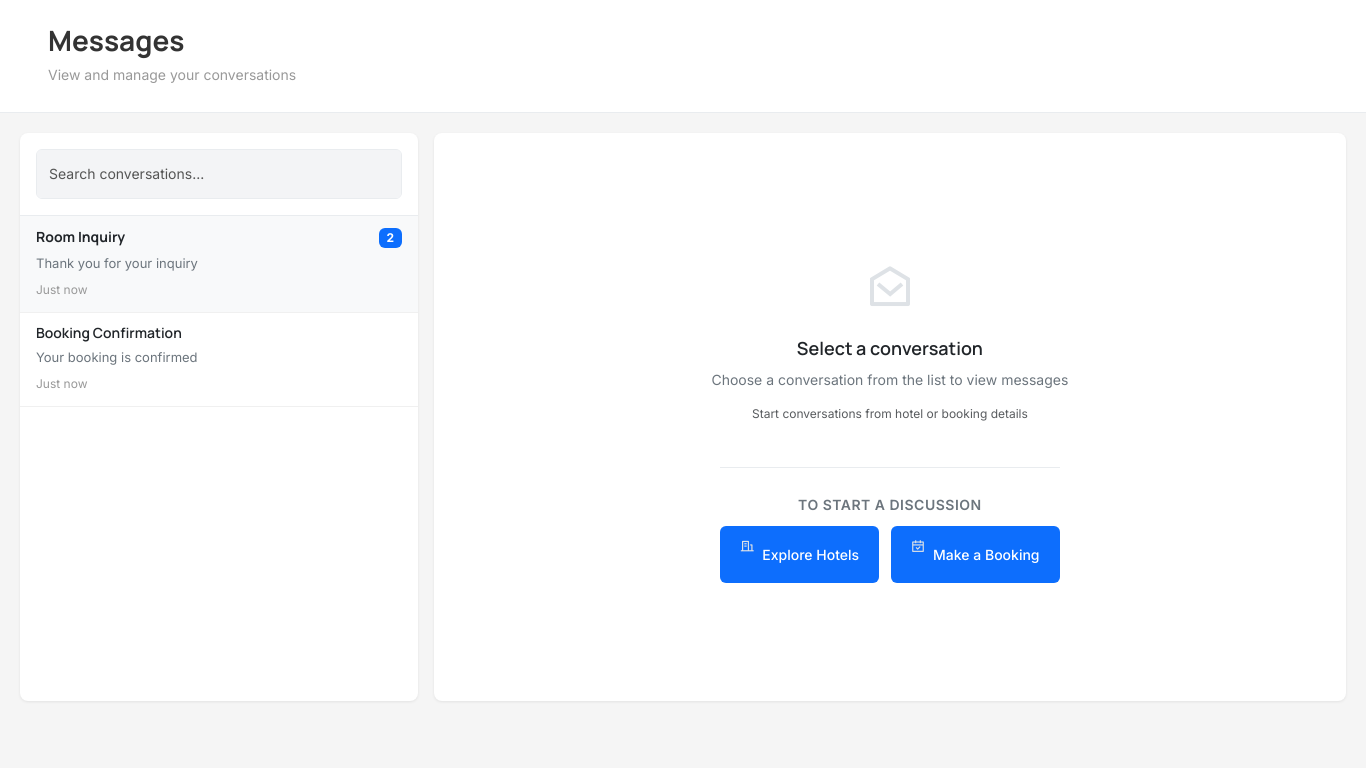
Test case: MessagesPage › should filter conversations by search term
expect the heading "Room Inquiry" is shown: met, box [36, 227, 125, 246]
Type "Booking" into the field with placeholder "Search conversations...". click: [219, 174]
box: [36, 149, 402, 199]
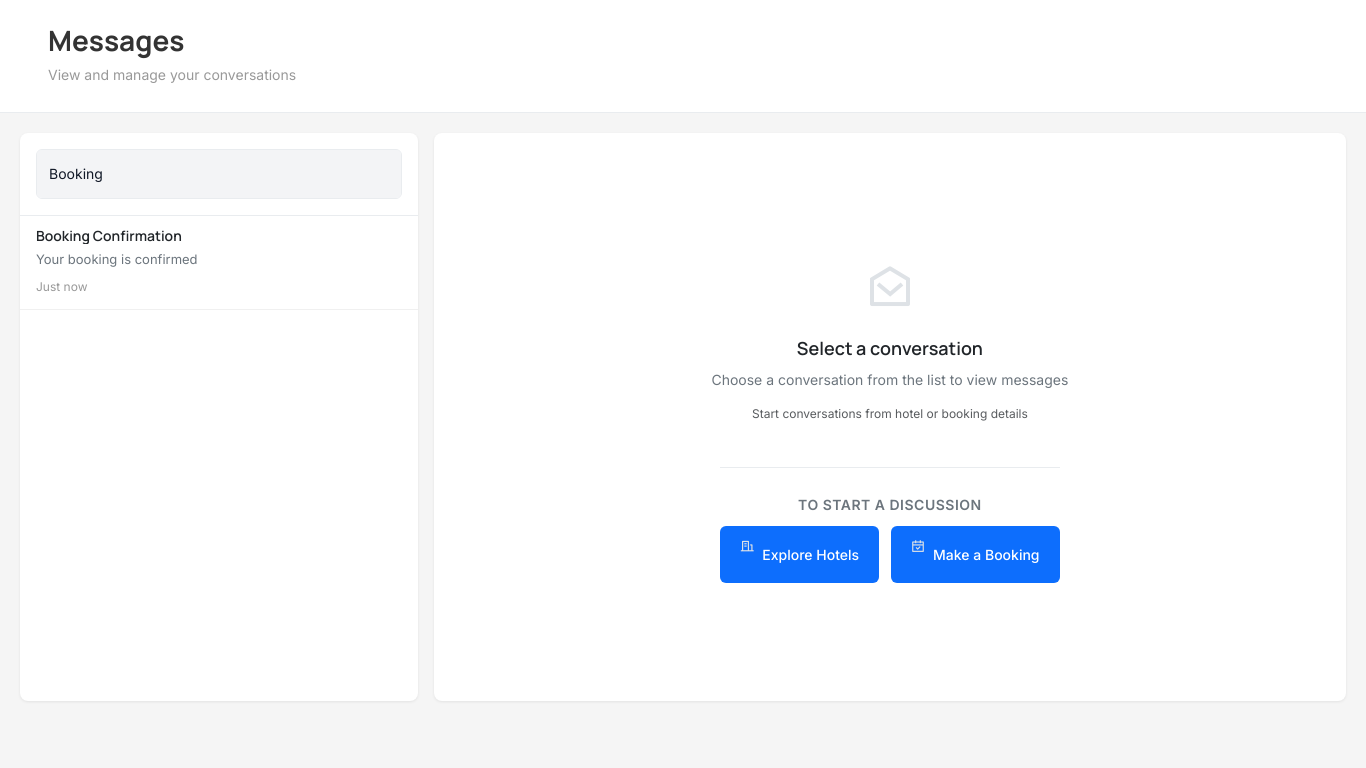
expect the heading "Booking Confirmation" is shown: met, box [36, 226, 182, 245]
expect the heading "Room Inquiry" is gone: met
